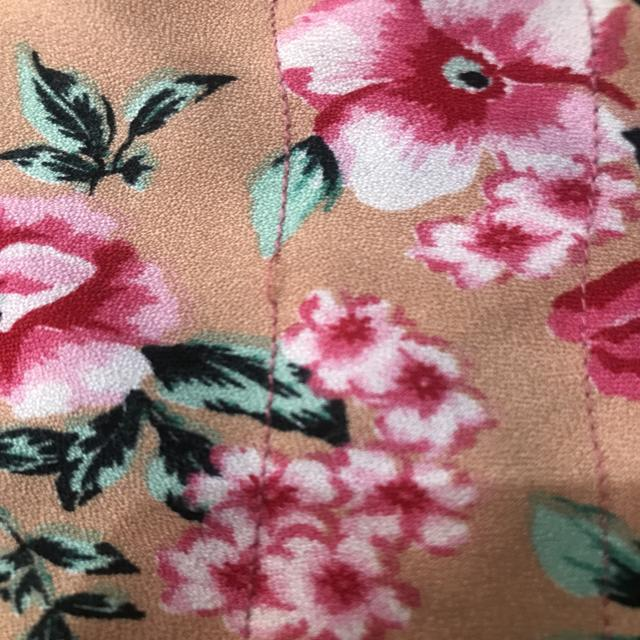skip: (255, 236, 299, 314)
